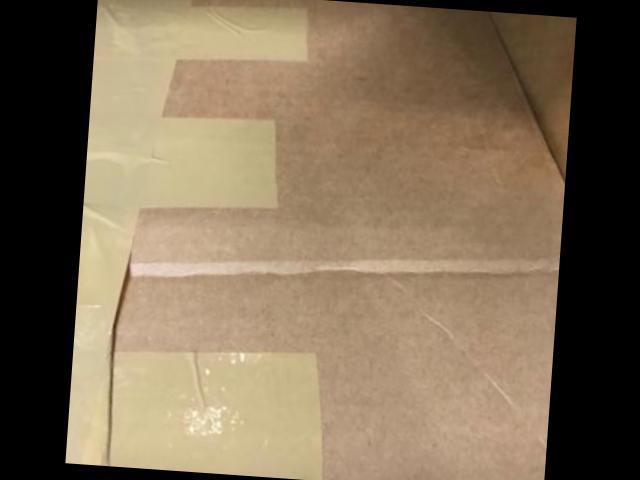cardboard paper: (64, 0, 576, 480)
